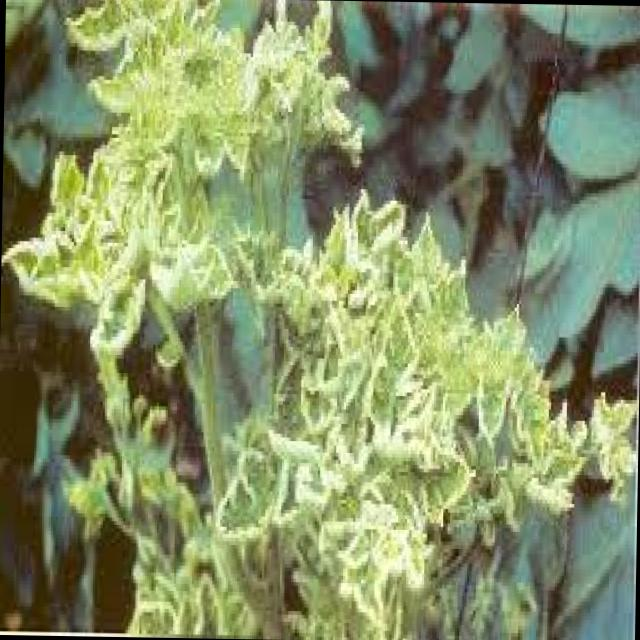Chilli_Leaf_Curl: (0, 0, 640, 638), (321, 0, 640, 377), (538, 57, 640, 182)
